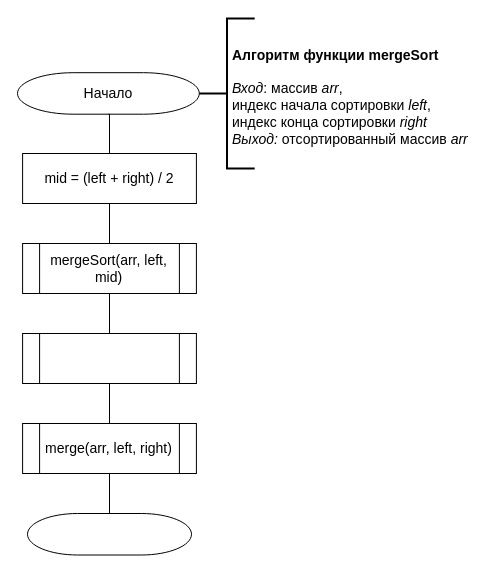
Image size: 495x572. Some labels were removed from this diagram. Each missing label, with the centre of its shape:
mergeSort(arr, mid + 1, right): point (109, 358)
Конец: point (109, 533)
